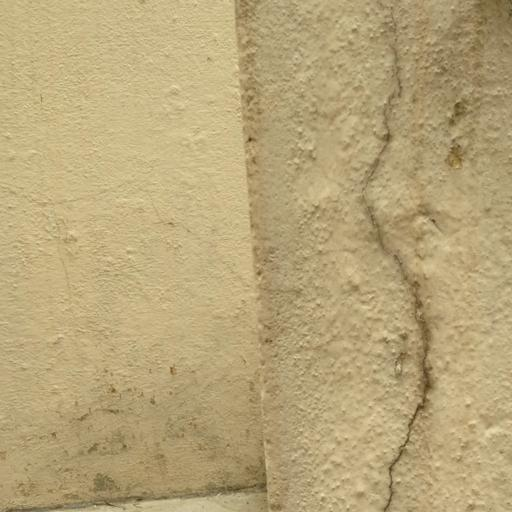minor_crack: (340, 2, 464, 512)
